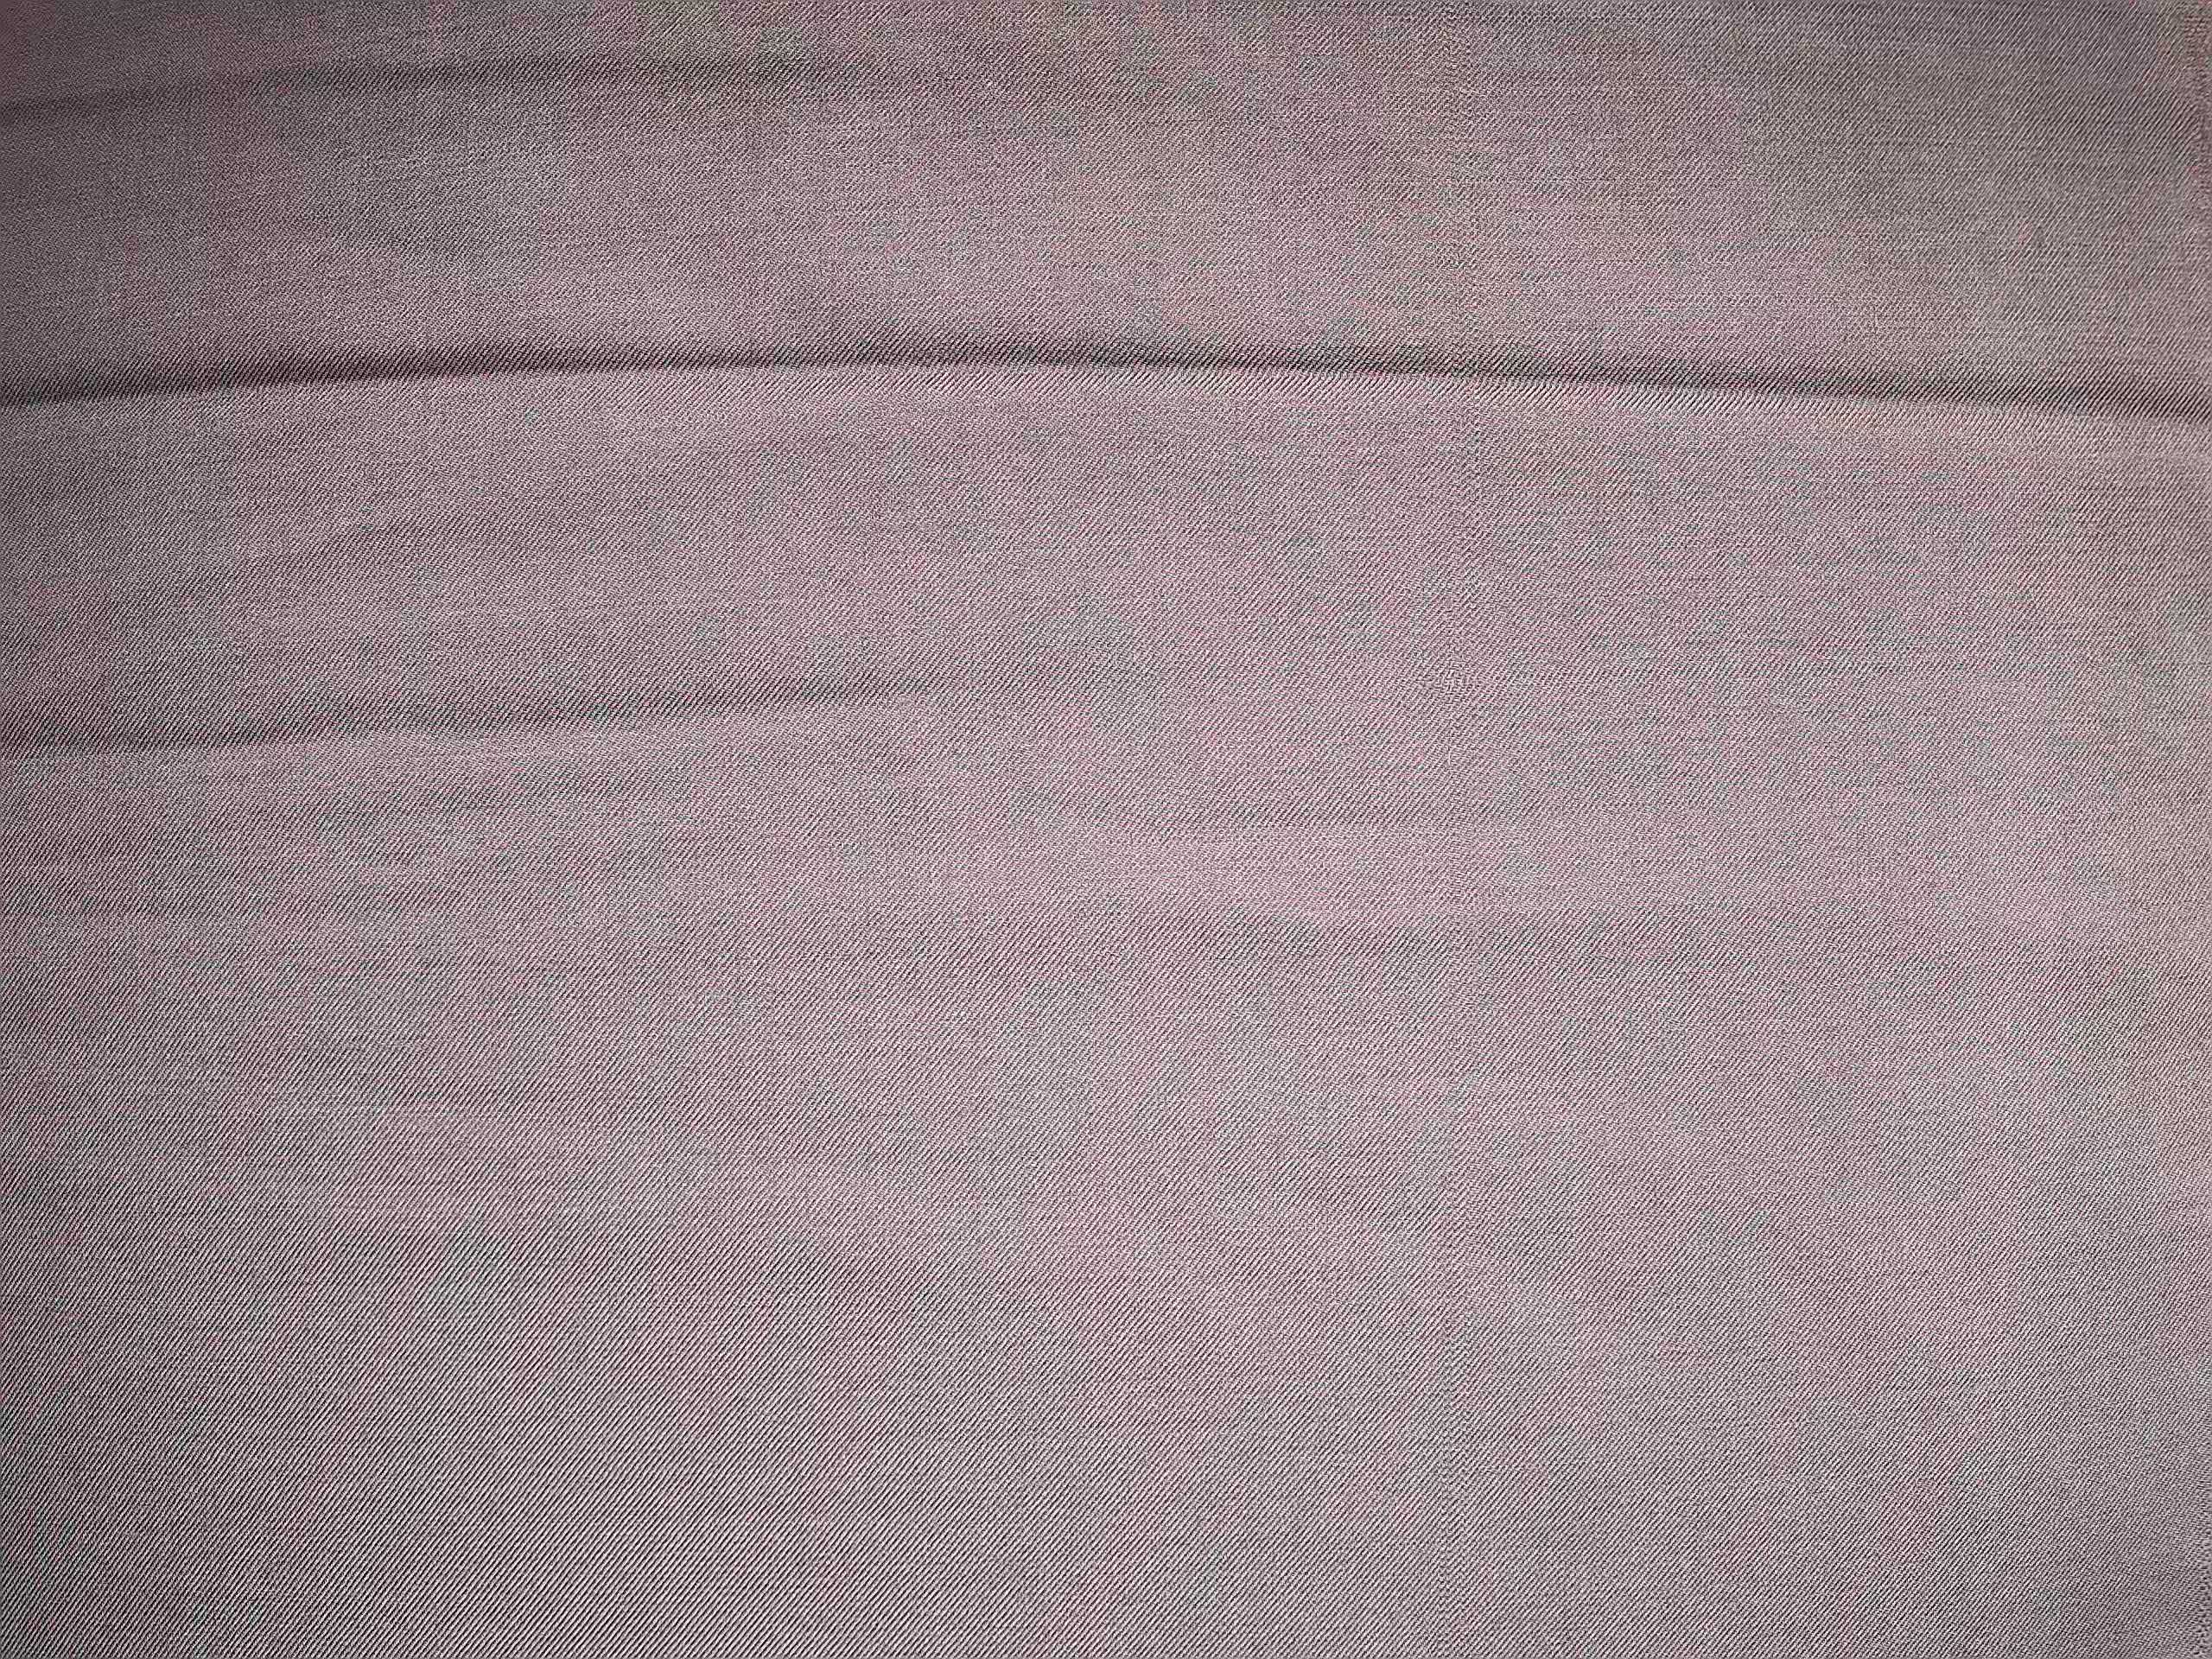hanging-warp: (1435, 19, 1484, 1647)
